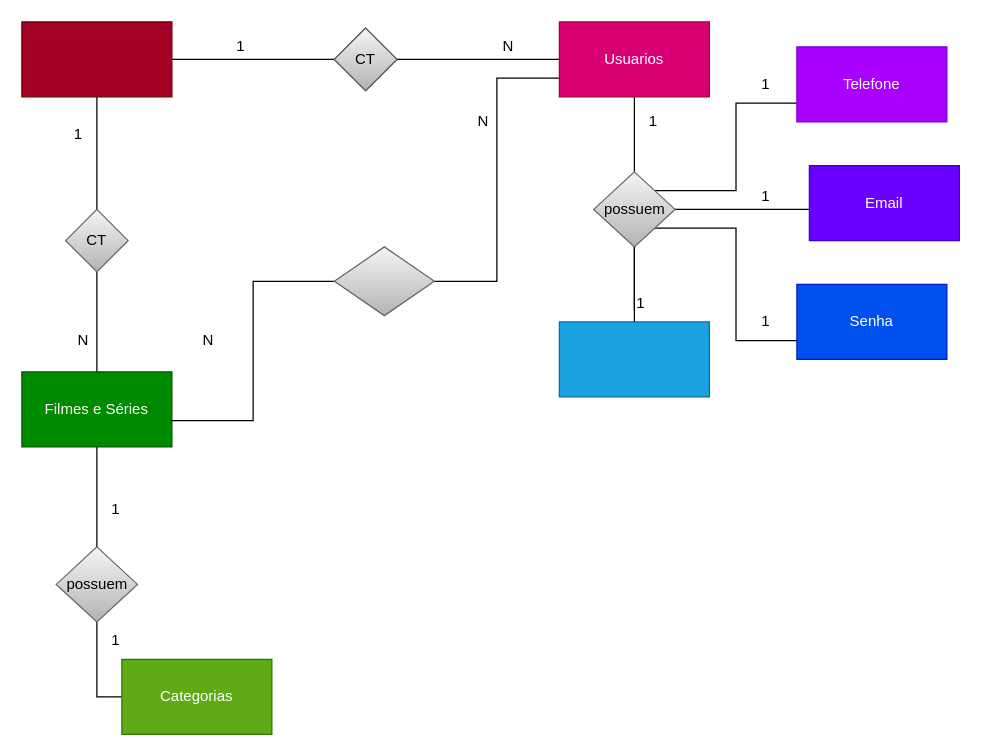
Some shapes in this 981 by 756 pixel diagram are drawn without their labels. Here are the shapes that lost their labels. From the top down, the centre of each, then its label:
At point (96, 59): "OpFlix".
At point (383, 281): "Assistem".
At point (633, 359): "TipoUser".
